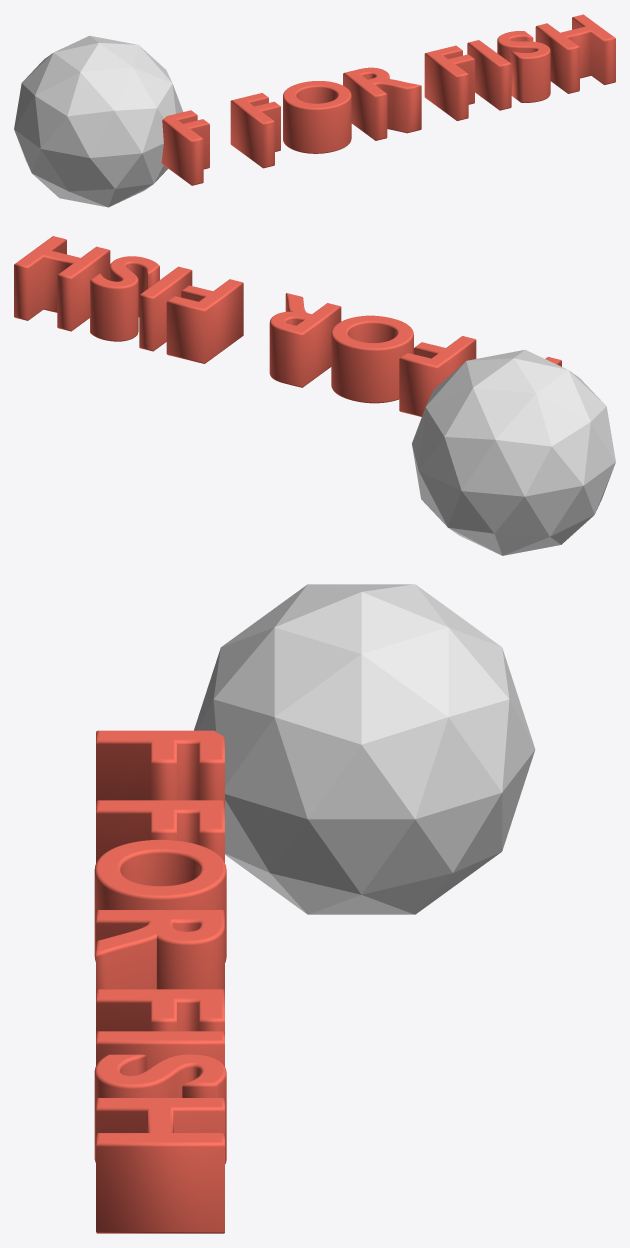
File: FISH.fbx
The picture shows the model from 3 angles, top to bottom: view 1: azimuth 30°, elevation 25°; view 2: azimuth 150°, elevation 25°; view 3: azimuth 270°, elevation 25°; orthographic projection. The views are drawn at different scales.
Visible parts, largest first — view 1: Text.001, Icosphere; view 2: Text.001, Icosphere; view 3: Icosphere, Text.001.
Boxes of the visible parts, x1,y1,x2,y2 form: Text.001: (161, 14, 615, 185); Icosphere: (14, 35, 183, 207); Text.001: (14, 236, 561, 416); Icosphere: (412, 349, 615, 555); Icosphere: (194, 584, 535, 914); Text.001: (94, 730, 226, 1233).
Size of the model in its own units: 694 by 200 by 254.
